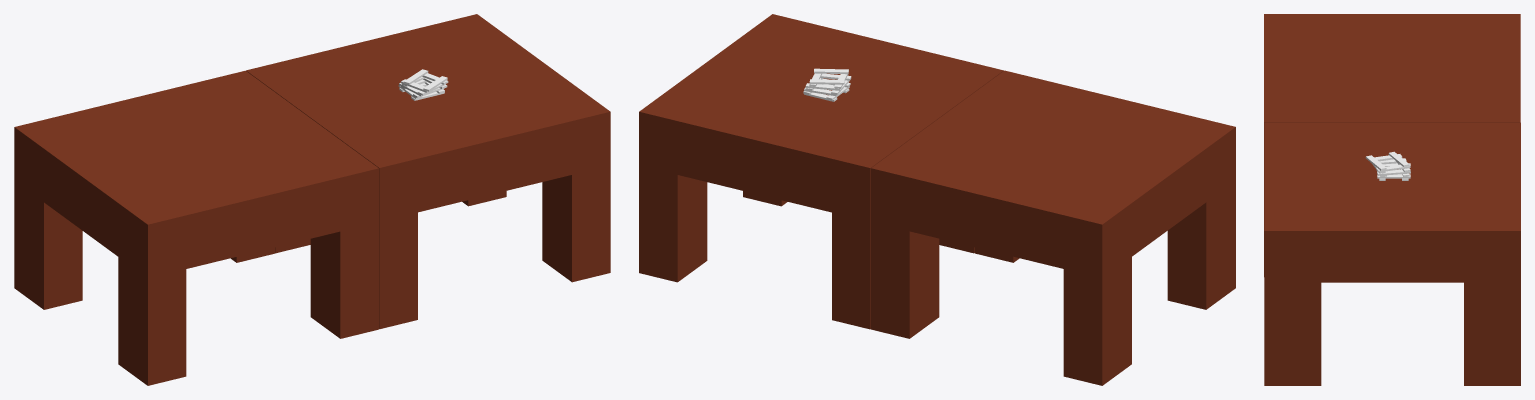
File: keva_spiral_test.dae
The picture shows the model from 3 angles, left to right: view 1: azimuth 30°, elevation 25°; view 2: azimuth 150°, elevation 25°; view 3: azimuth 270°, elevation 25°; orthographic projection. The views are drawn at different scales.
Visible parts, largest first — view 1: base (×7); view 2: base (×7); view 3: base (×4).
Part boxes in pixels (x1,y1,x2,y2): base (×7): (14, 14, 610, 385); base (×7): (639, 14, 1235, 385); base (×4): (1264, 14, 1520, 385).
Size of the model in its own units: 1.8 by 0.9009 by 0.6544.
